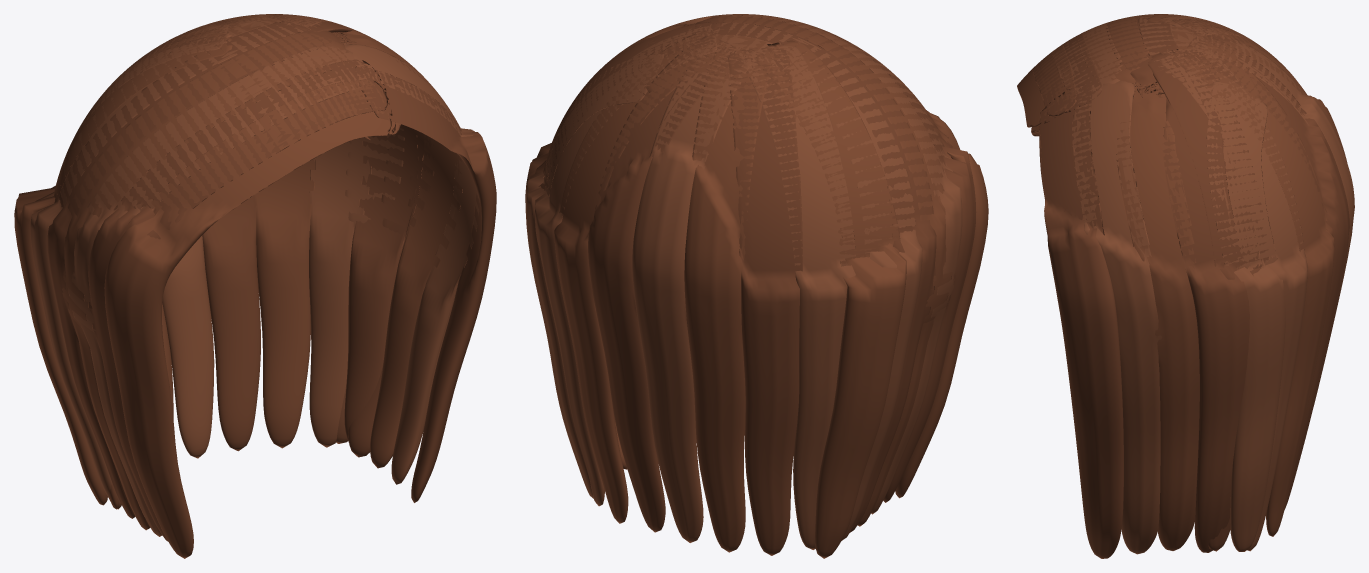
Rendered from Feminine-straight-cap252-hair.glb.
The picture shows the model from 3 angles, left to right: view 1: azimuth 30°, elevation 25°; view 2: azimuth 150°, elevation 25°; view 3: azimuth 270°, elevation 25°; orthographic projection. The views are drawn at different scales.
Visible parts, largest first — view 1: 226 hair / Hair / sculpted 0.001, 226 hair / Hair / sculpted 1.002, 226 hair / Hair / sculpted 2.001; view 2: 226 hair / Hair / sculpted 0.001, 226 hair / Hair / sculpted 2.001, 226 hair / Hair / sculpted 1.002; view 3: 226 hair / Hair / sculpted 1.002, 226 hair / Hair / sculpted 2.001, 226 hair / Hair / sculpted 0.001.
Boxes of the visible parts, x1=… form: 226 hair / Hair / sculpted 0.001: x1=14, y1=14, x2=462, y2=558; 226 hair / Hair / sculpted 1.002: x1=47, y1=14, x2=496, y2=541; 226 hair / Hair / sculpted 2.001: x1=30, y1=14, x2=479, y2=536; 226 hair / Hair / sculpted 0.001: x1=554, y1=14, x2=988, y2=558; 226 hair / Hair / sculpted 2.001: x1=525, y1=14, x2=962, y2=549; 226 hair / Hair / sculpted 1.002: x1=525, y1=14, x2=976, y2=555; 226 hair / Hair / sculpted 1.002: x1=1032, y1=14, x2=1349, y2=558; 226 hair / Hair / sculpted 2.001: x1=1053, y1=14, x2=1354, y2=554; 226 hair / Hair / sculpted 0.001: x1=1017, y1=14, x2=1347, y2=550.
Size of the model in its own units: 1.02 by 1.17 by 0.7662.
